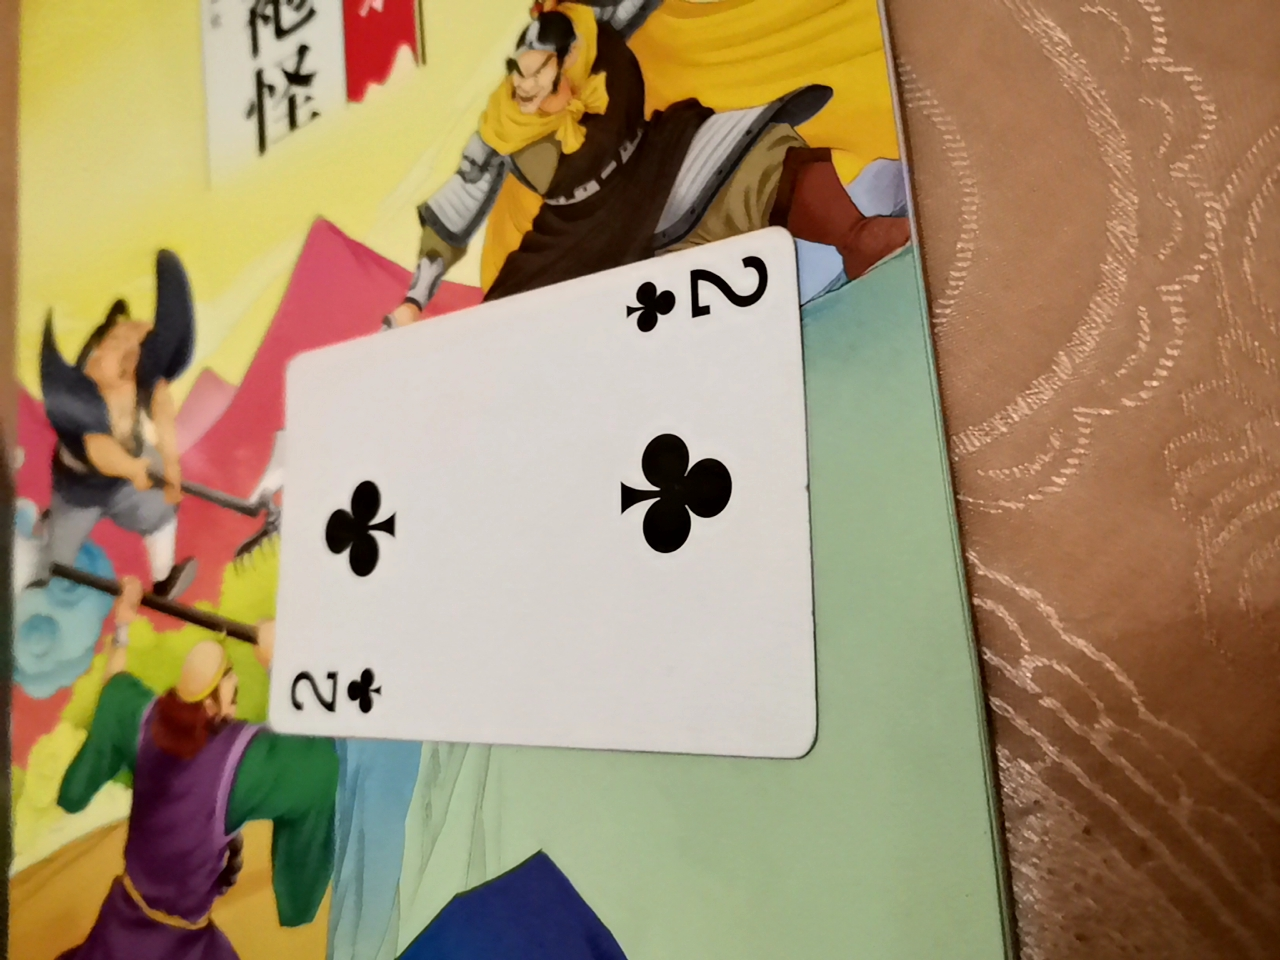mh 2: (283, 240, 834, 766)
